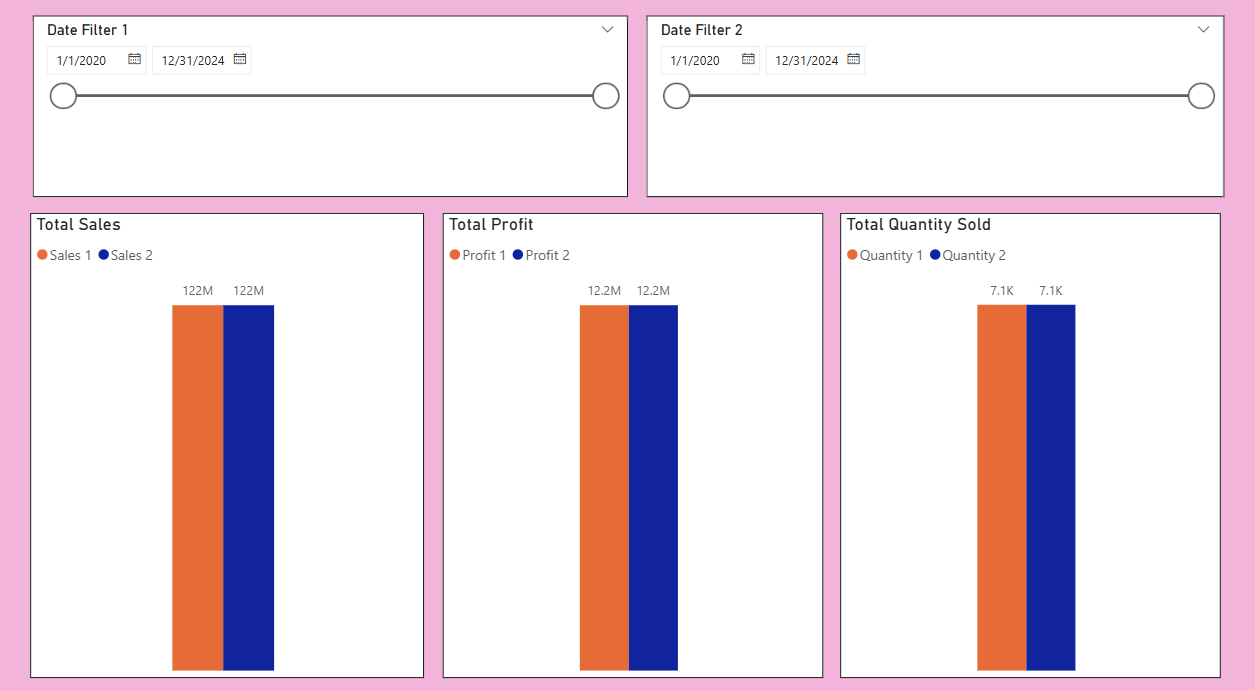

The dashboard page shown, as its layout file describes it:
{"tool":"powerbi","page":{"name":"Comparison Sales / Profit / Qty","canvas":[1280,720],"ordinal":2},"visuals":[{"type":"slicer","fields":{"Values":["Date Table 1.Date"]},"box":[66.7,40.6,574.7,174.9],"z":0},{"type":"slicer","fields":{"Values":["Date Table 2.Date"]},"box":[658.6,40.6,557.6,174.9],"z":1000},{"type":"clusteredColumnChart","title":"Total Sales","fields":{"Y":["Sum(Fact Table.Net Sales)","Date Table 1.Sum of Net Sales"]},"box":[63.4,232.1,380.3,448.8],"z":2000},{"type":"clusteredColumnChart","title":"Total Profit","fields":{"Y":["Sum(Fact Table.Profit)","Measures Table.Total Profit"]},"box":[462,232.1,366.8,448.8],"z":3000},{"type":"clusteredColumnChart","title":"Total Quantity Sold","fields":{"Y":["Sum(Fact Table.Units Sold)","Measures Table.Quantity Sold"]},"box":[846,232.1,366.8,448.8],"z":4000}]}

Visuals, with their boxes in screenshot pixels (x1, y1, x2, y2), scaled from the page's 1280x720 canvas onto the 1255x690 screenshot:
slicer - Date Table 1.Date: <bbox>65, 39, 629, 207</bbox>
slicer - Date Table 2.Date: <bbox>646, 39, 1192, 207</bbox>
"Total Sales" clusteredColumnChart: <bbox>62, 222, 435, 653</bbox>
"Total Profit" clusteredColumnChart: <bbox>453, 222, 813, 653</bbox>
"Total Quantity Sold" clusteredColumnChart: <bbox>829, 222, 1189, 653</bbox>
